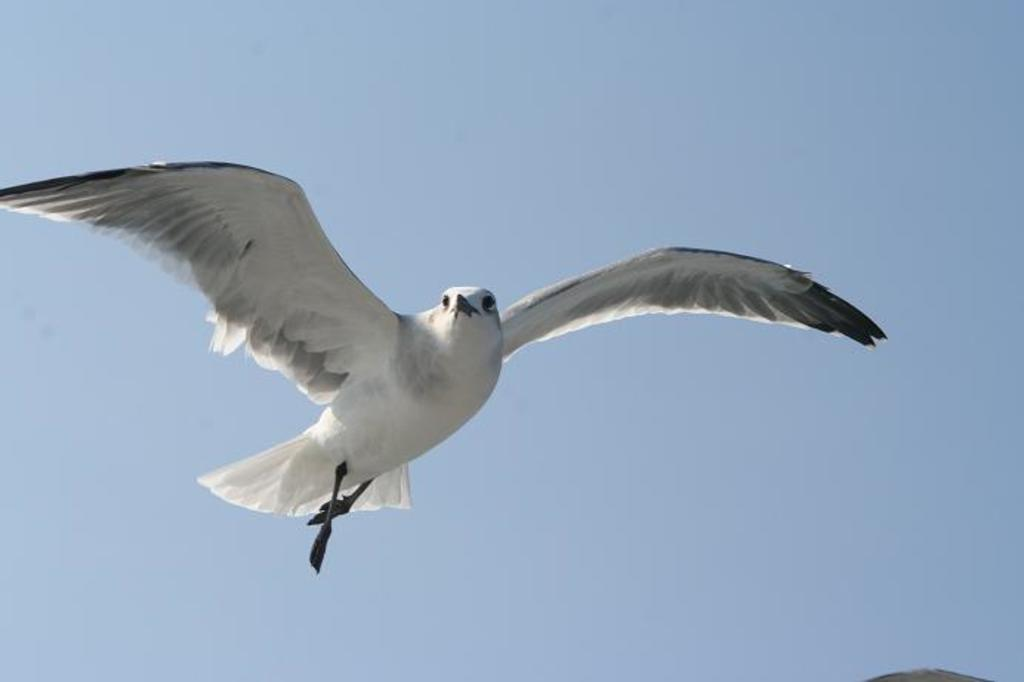Bird: (0, 161, 888, 575)
